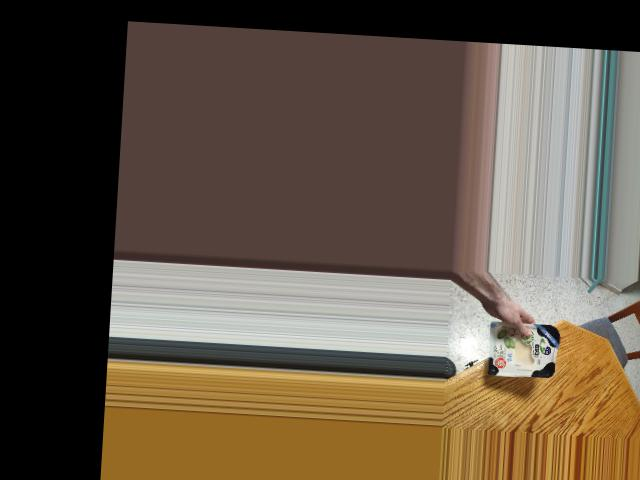cheese: (483, 316, 561, 378)
